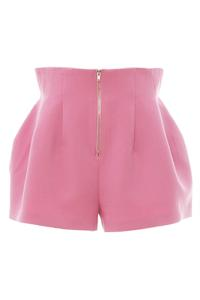C_shorts: (4, 61, 200, 236)
